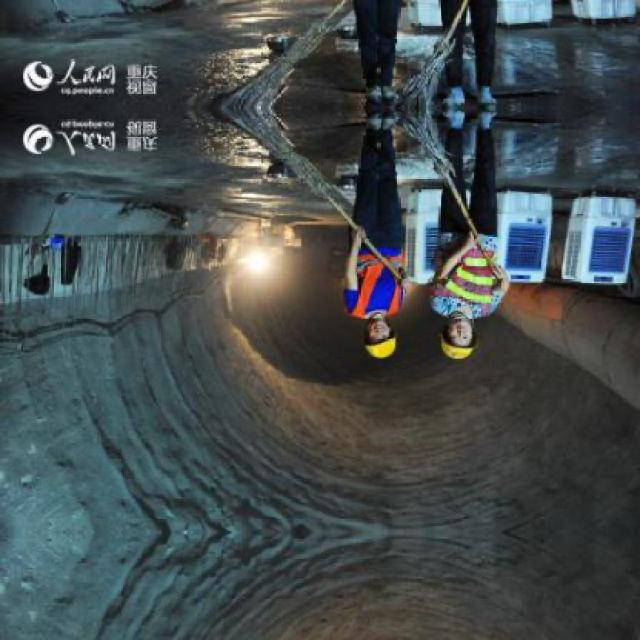con casco: (389, 302, 494, 378), (324, 285, 411, 366)
